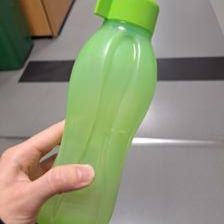bottle: (35, 1, 162, 223)
